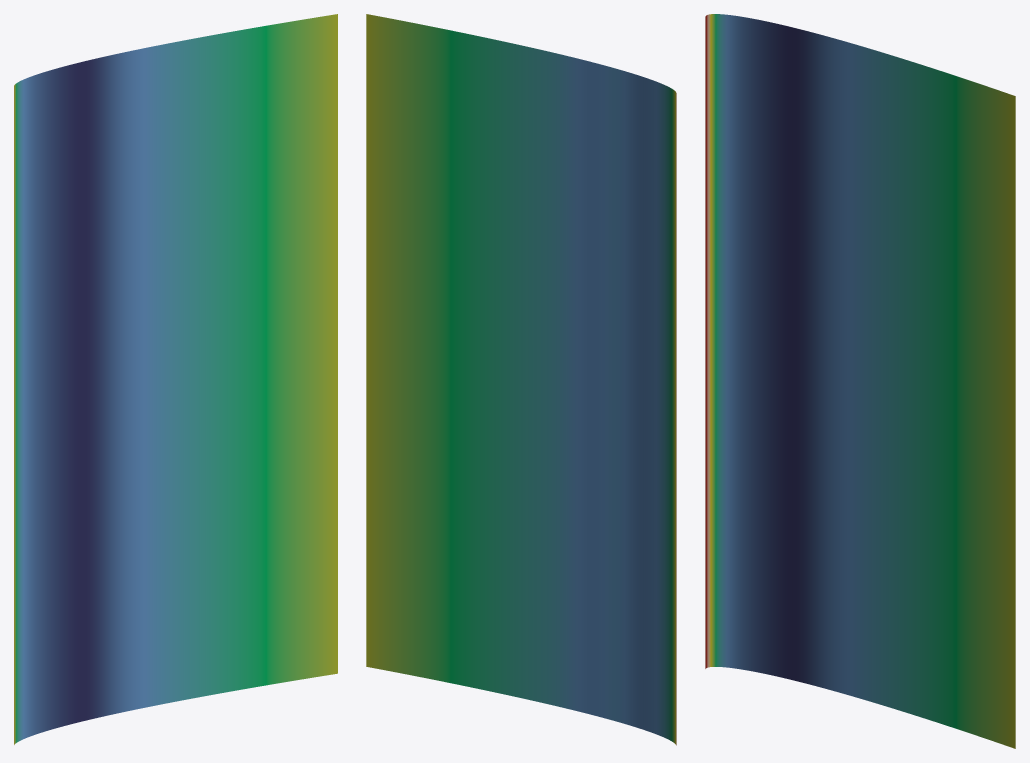
Rendered from morphing_wing_14.glb.
3 renders of one model, left to right at view 1: azimuth 30°, elevation 25°; view 2: azimuth 150°, elevation 25°; view 3: azimuth 330°, elevation 25°, orthographic.
Parts seen in each view (by area): view 1: part_0_0; view 2: part_0_0; view 3: part_0_0.
Boxes of the visible parts, x1,y1,x2,y2 form: part_0_0: (14,14,337,744); part_0_0: (366,14,676,745); part_0_0: (705,14,1015,748).
Size of the model in its own units: 1.01 by 2 by 0.1219.
